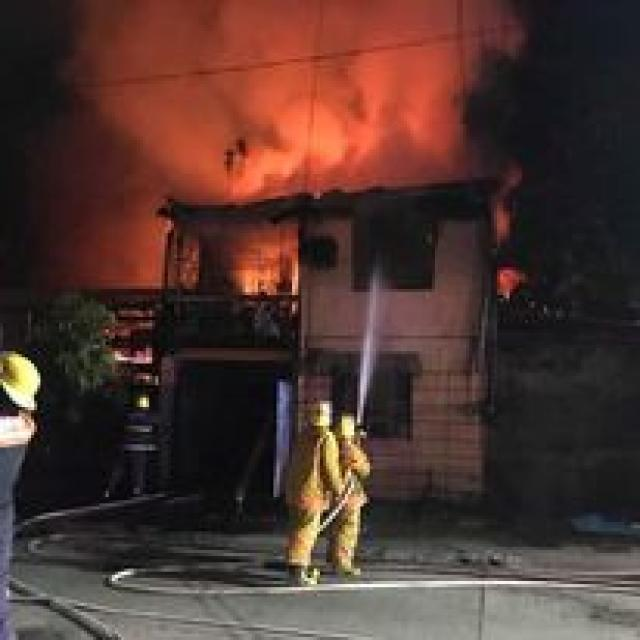Smoke: (80, 5, 516, 184)
